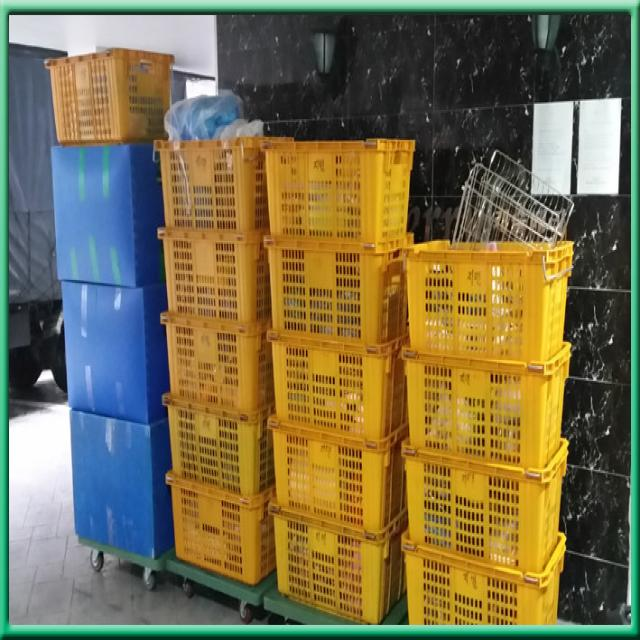basket: (399, 335, 571, 470), (403, 440, 569, 573), (407, 241, 575, 362), (260, 415, 413, 536), (264, 505, 411, 626), (262, 329, 413, 442), (152, 470, 288, 587), (265, 140, 415, 242), (403, 533, 567, 626), (265, 240, 408, 344), (150, 392, 286, 499), (45, 42, 180, 147), (160, 307, 275, 416), (154, 137, 283, 234), (158, 230, 271, 323)
